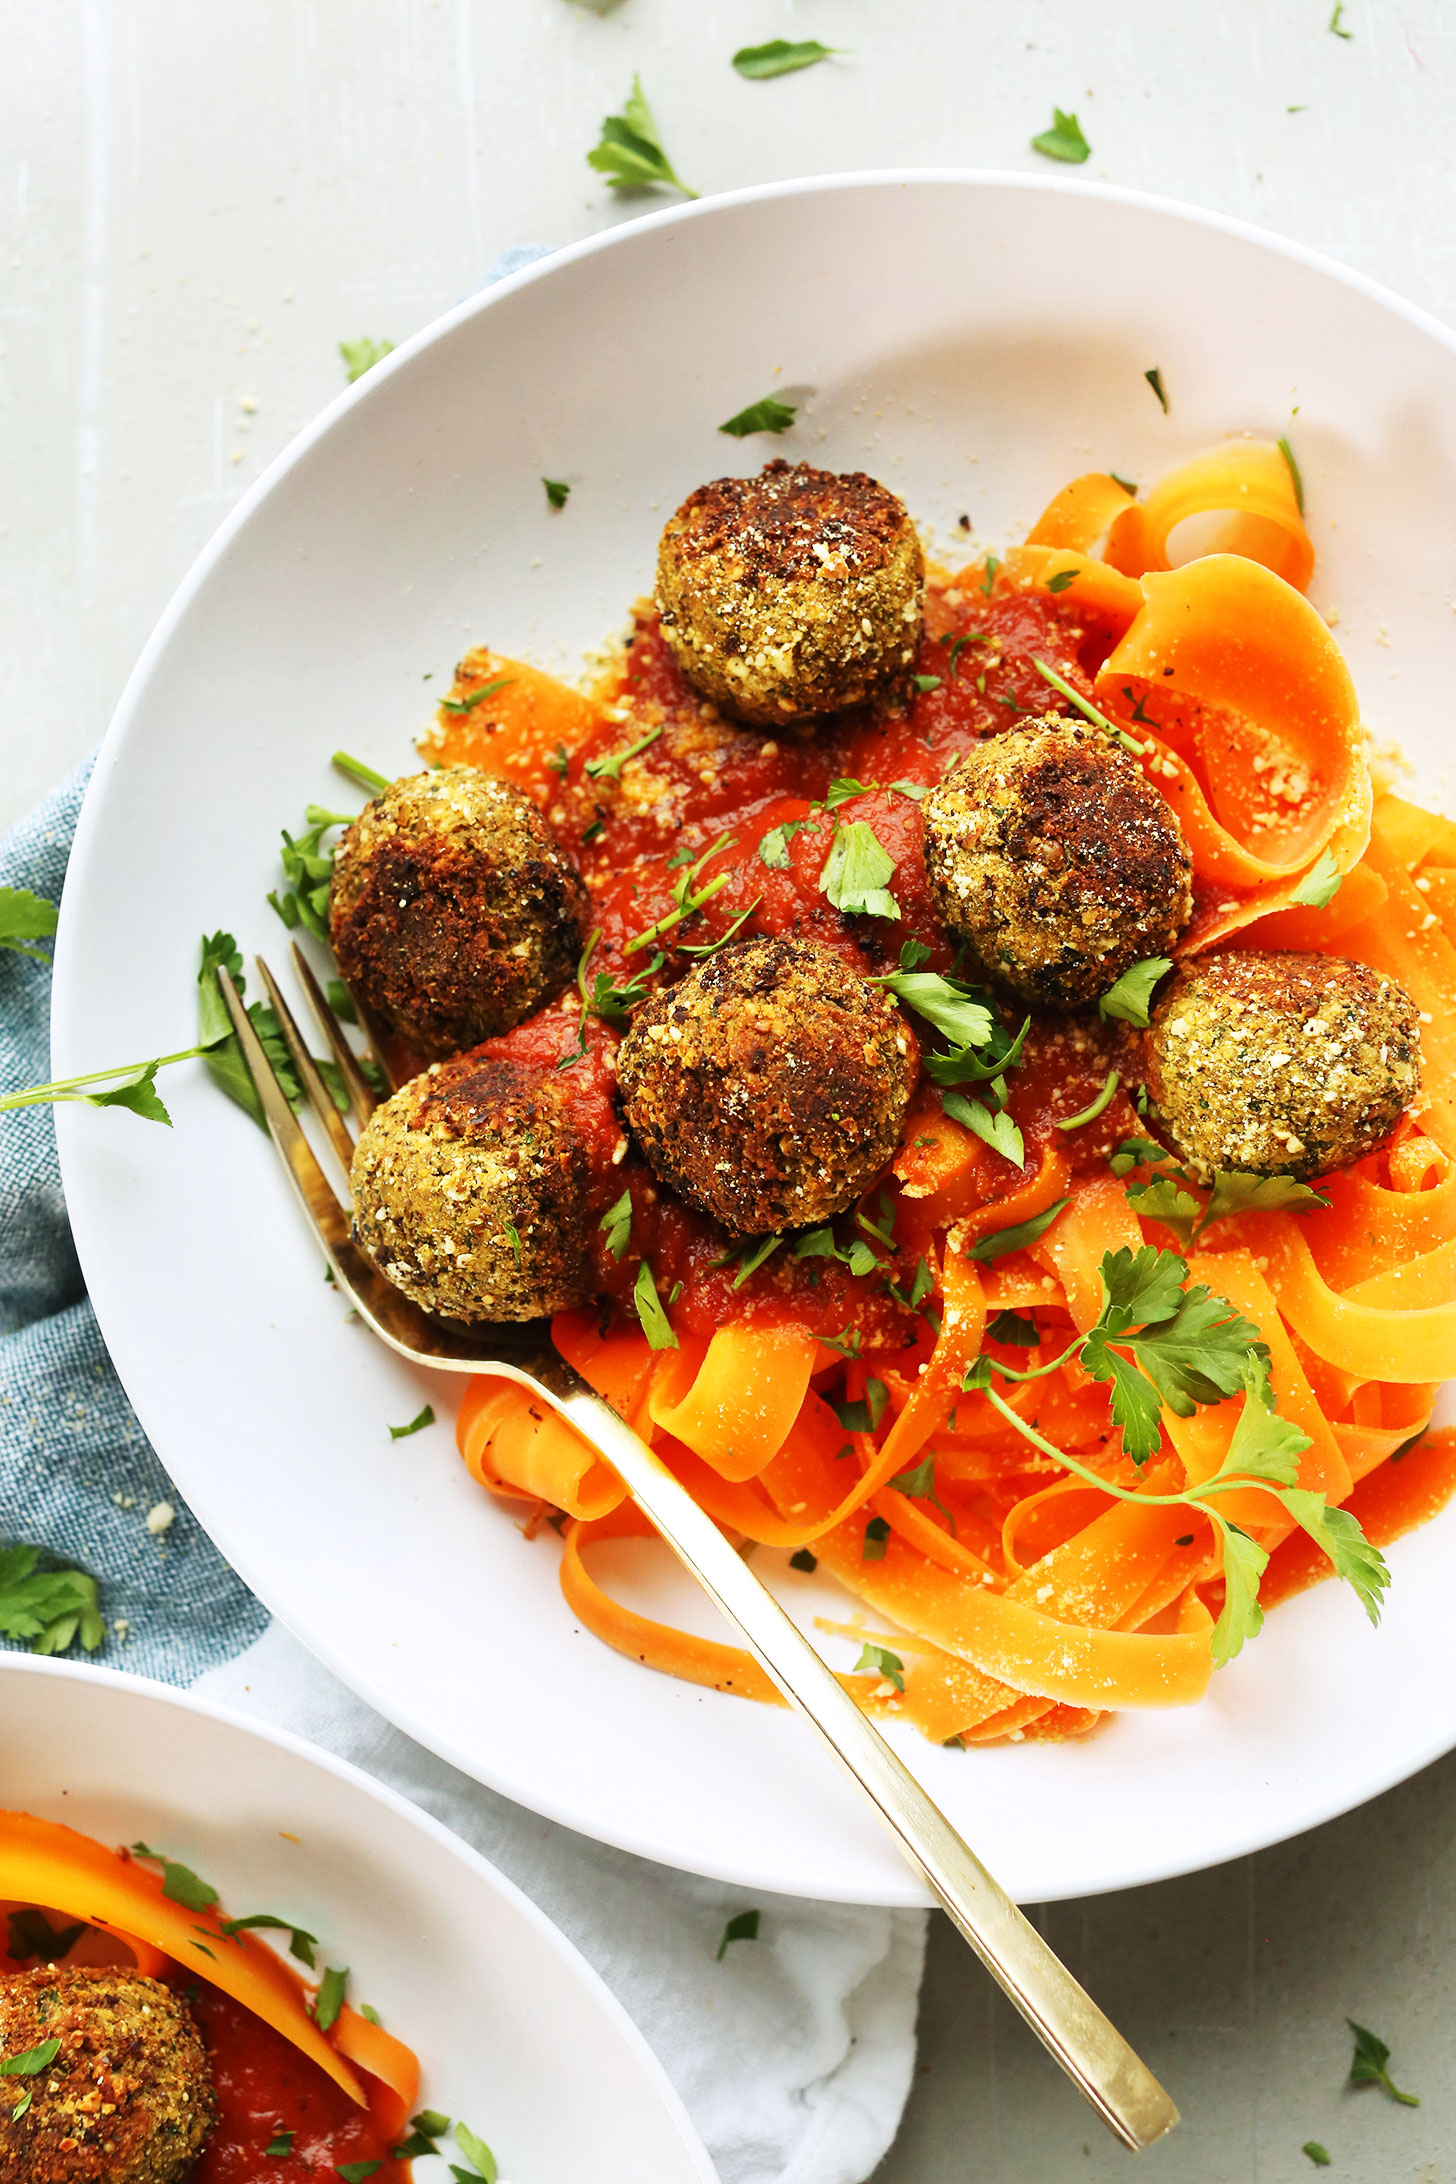meatballs: (305, 799, 613, 1324), (627, 944, 905, 1214), (1098, 959, 1414, 1159), (951, 730, 1189, 991), (656, 481, 920, 705)
